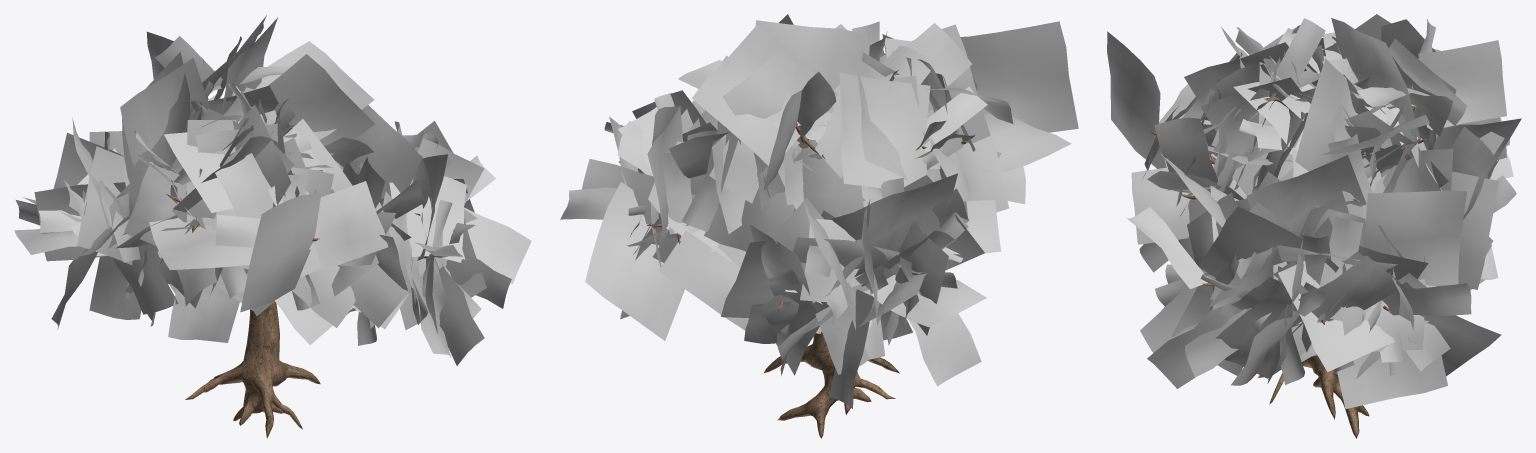
Rendered from Tree1HighPoly.fbx.
3 renders of one model, left to right at view 1: azimuth 30°, elevation 25°; view 2: azimuth 150°, elevation 25°; view 3: azimuth 270°, elevation 25°, orthographic. The views are drawn at different scales.
Visible parts, largest first — view 1: tree1|branch1-2|Dupli|305, tree1, tree1|branch1-2|Dupli|188, tree1|branch1-2|Dupli|302, tree1|branch1-2|Dupli|338, tree1|branch1-2|Dupli|56, tree1|branch1-2|Dupli|68, tree1|branch1-2|Dupli|41, tree1|branch1-2|Dupli|2, tree1|branch1-1|Dupli|381, tree1|branch1-2|Dupli|341, tree1|branch1-2|Dupli|332 (+51 smaller); view 2: tree1|branch1-2|Dupli|305, tree1|branch1-2|Dupli|359, tree1|branch1-2|Dupli|341, tree1|branch1-2|Dupli|245, tree1|branch1-2|Dupli|146, tree1|branch1-2|Dupli|233, tree1|branch1-1|Dupli|54, tree1|branch1-2|Dupli|239, tree1, tree1|branch1-2|Dupli|242, tree1|branch1-1|Dupli|144, tree1|branch1-2|Dupli|56 (+50 smaller); view 3: tree1|branch1-2|Dupli|392, tree1|branch1-2|Dupli|305, tree1|branch1-2|Dupli|248, tree1|branch1-2|Dupli|68, tree1|branch1-2|Dupli|119, tree1|branch1-2|Dupli|371, tree1|branch1-2|Dupli|356, tree1|branch1-2|Dupli|188, tree1|branch1-2|Dupli|233, tree1|branch1-2|Dupli|74, tree1|branch1-2|Dupli|383, tree1|branch1-1|Dupli|294 (+68 smaller).
Part boxes in pixels (<box>): tree1|branch1-2|Dupli|305: <box>240,192,321,312</box>; tree1: <box>158,153,447,438</box>; tree1|branch1-2|Dupli|188: <box>268,54,375,155</box>; tree1|branch1-2|Dupli|302: <box>313,181,388,270</box>; tree1|branch1-2|Dupli|338: <box>120,58,210,173</box>; tree1|branch1-2|Dupli|56: <box>149,218,253,270</box>; tree1|branch1-2|Dupli|68: <box>349,105,422,198</box>; tree1|branch1-2|Dupli|41: <box>168,284,239,342</box>; tree1|branch1-2|Dupli|2: <box>77,146,132,264</box>; tree1|branch1-1|Dupli|381: <box>464,207,531,283</box>; tree1|branch1-2|Dupli|341: <box>122,51,190,198</box>; tree1|branch1-2|Dupli|332: <box>124,163,186,245</box>; tree1|branch1-2|Dupli|305: <box>960,21,1078,132</box>; tree1|branch1-2|Dupli|359: <box>585,182,684,340</box>; tree1|branch1-2|Dupli|341: <box>839,72,930,188</box>; tree1|branch1-2|Dupli|245: <box>691,24,838,165</box>; tree1|branch1-2|Dupli|146: <box>854,173,957,277</box>; tree1|branch1-2|Dupli|233: <box>755,20,865,113</box>; tree1|branch1-1|Dupli|54: <box>659,230,748,330</box>; tree1|branch1-2|Dupli|239: <box>753,139,863,217</box>; tree1: <box>647,123,967,438</box>; tree1|branch1-2|Dupli|242: <box>722,49,831,165</box>; tree1|branch1-1|Dupli|144: <box>886,274,981,386</box>; tree1|branch1-2|Dupli|56: <box>975,113,1071,172</box>; tree1|branch1-2|Dupli|392: <box>1363,190,1466,285</box>; tree1|branch1-2|Dupli|305: <box>1107,31,1166,168</box>; tree1|branch1-2|Dupli|248: <box>1418,40,1506,129</box>; tree1|branch1-2|Dupli|68: <box>1246,155,1366,236</box>; tree1|branch1-2|Dupli|119: <box>1337,279,1447,408</box>; tree1|branch1-2|Dupli|371: <box>1198,206,1338,277</box>; tree1|branch1-2|Dupli|356: <box>1278,261,1394,372</box>; tree1|branch1-2|Dupli|188: <box>1295,58,1366,171</box>; tree1|branch1-2|Dupli|233: <box>1331,18,1420,139</box>; tree1|branch1-2|Dupli|74: <box>1451,171,1499,289</box>; tree1|branch1-2|Dupli|383: <box>1298,255,1403,321</box>; tree1|branch1-1|Dupli|294: <box>1154,117,1217,183</box>.
Bounding box in the file's own units: 3802 × 3319 × 3105.
